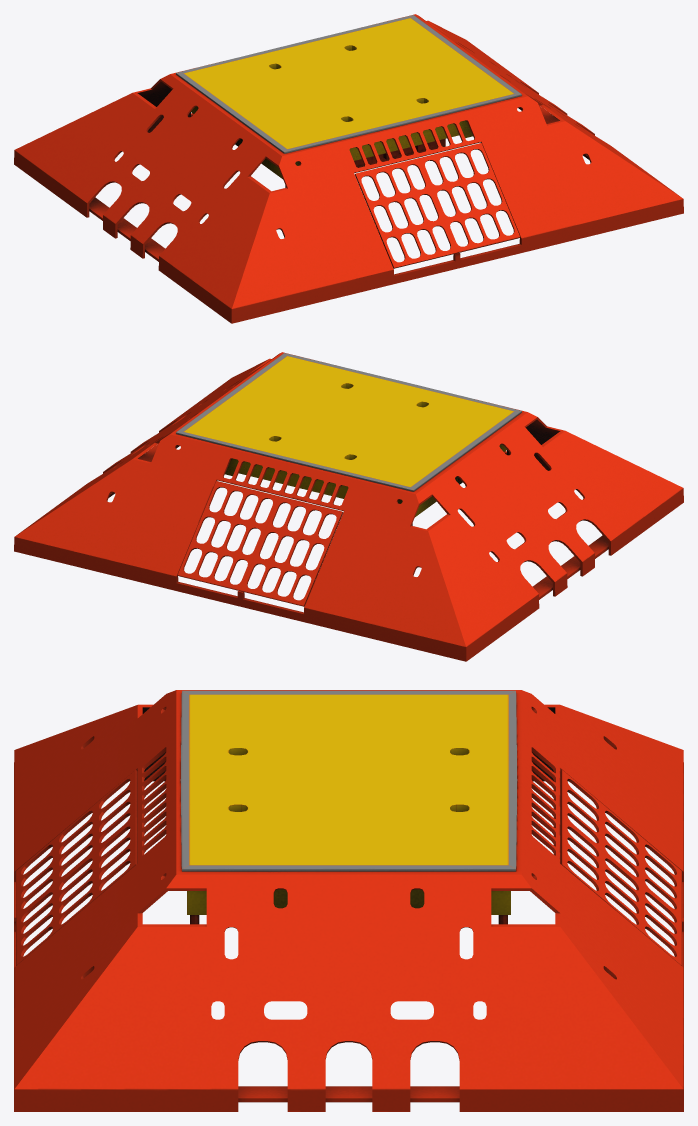
File: mbari_mars.dae
3 renders of one model, top to bottom at view 1: azimuth 30°, elevation 25°; view 2: azimuth 150°, elevation 25°; view 3: azimuth 270°, elevation 25°, orthographic. The views are drawn at different scales.
Visible parts, largest first — view 1: MBARI_MARS; view 2: MBARI_MARS; view 3: MBARI_MARS.
Part boxes in pixels (left/top/right/bottom): MBARI_MARS: left=14, top=14, right=683, bottom=323; MBARI_MARS: left=14, top=352, right=683, bottom=661; MBARI_MARS: left=14, top=690, right=683, bottom=1111.
Bounding box in the file's own units: 7.2 × 6 × 1.6.
Materials: 1 (1 with a texture image).
